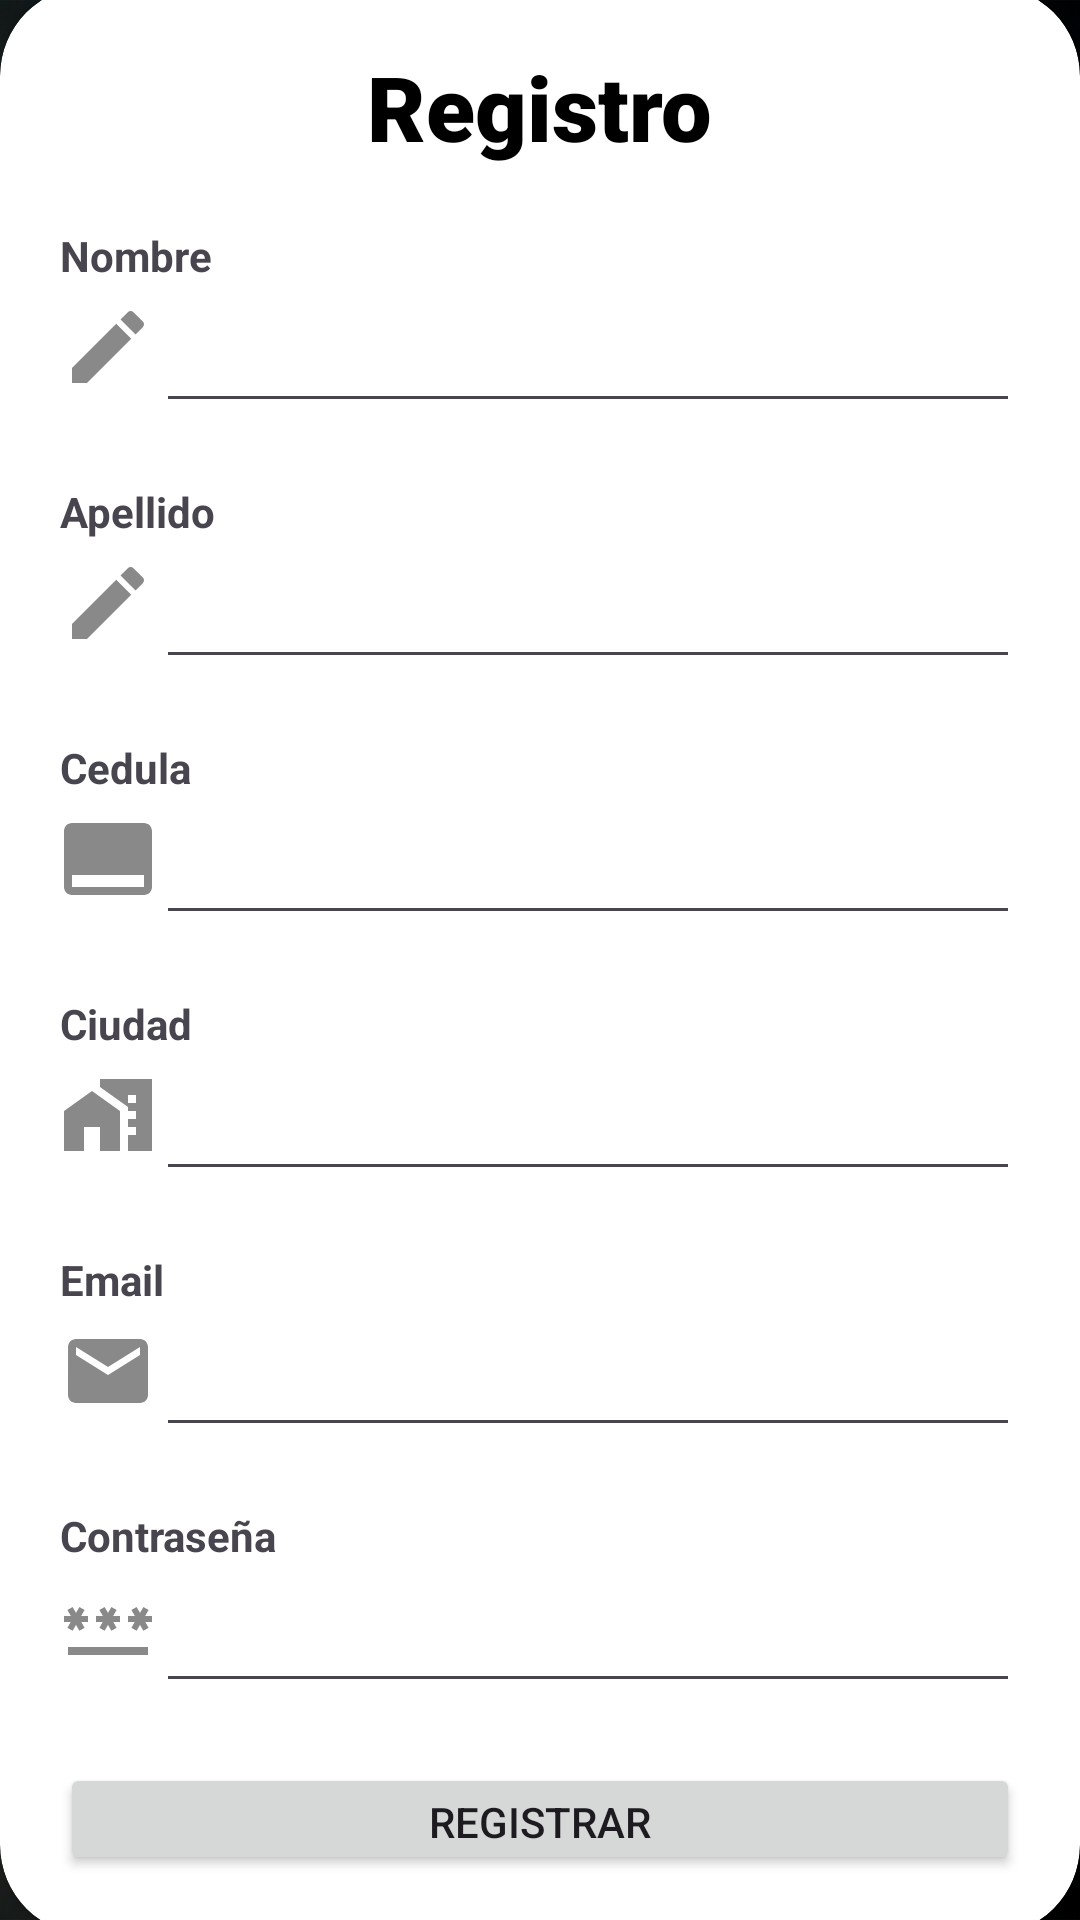

Locate icon controls on the screen. Image size 1080×1920, boxes as (x1,y1,x2,y2).
edit: (72,311,144,383), (72,567,144,639)
